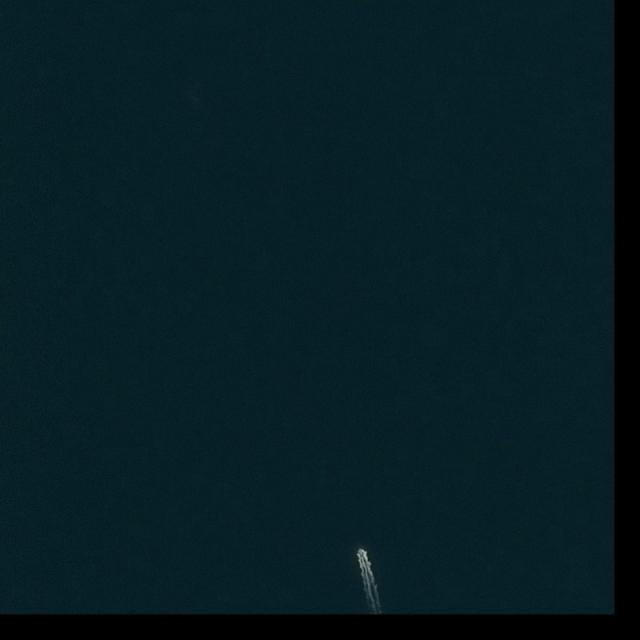ship: (358, 549, 365, 557)
